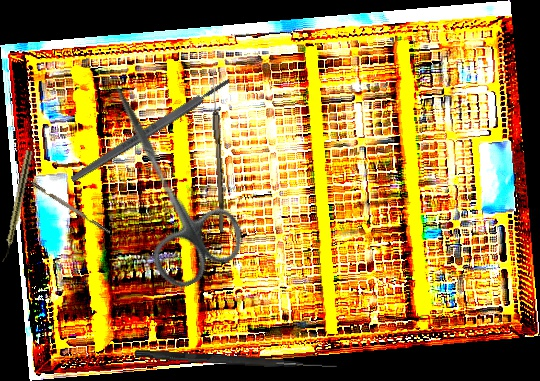Chopper: (16, 173, 112, 238)
Handpiece: (0, 149, 34, 264)
Hook Surgical: (134, 349, 338, 371)
Iris Scissors: (71, 65, 255, 296)
Scalpel Handle: (68, 76, 233, 184)
Surgical Spoon: (208, 69, 228, 233)
